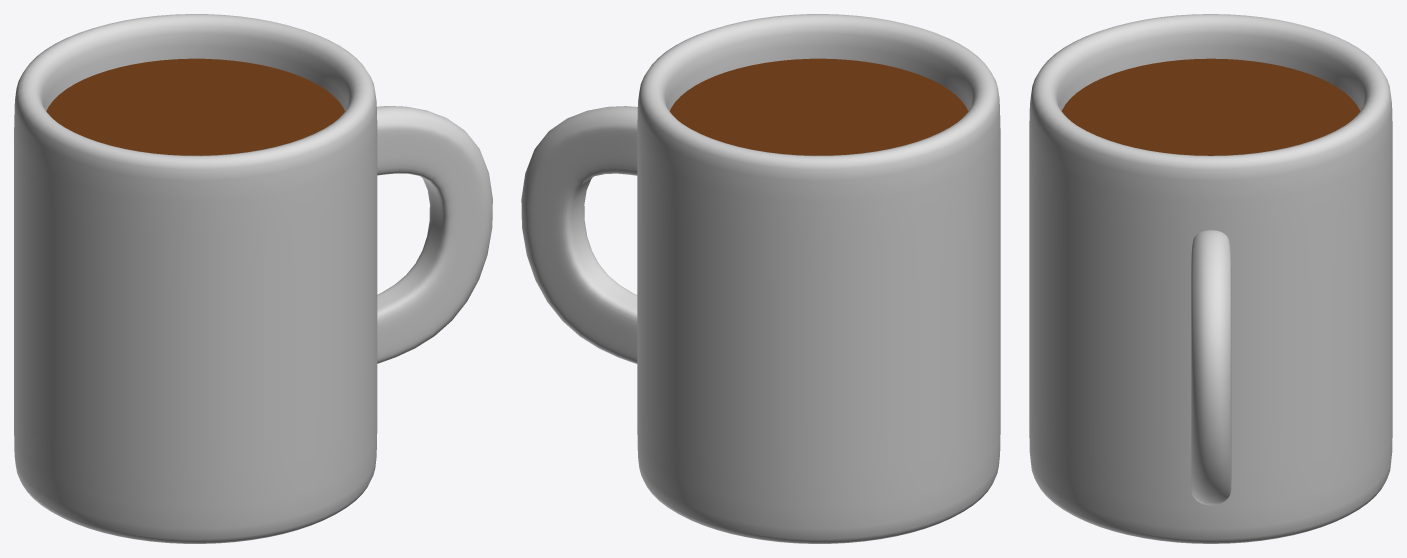
Rendered from Taza.fbx.
3 views of the same model, side by side, from view 1: azimuth 30°, elevation 25°; view 2: azimuth 150°, elevation 25°; view 3: azimuth 270°, elevation 25° (orthographic).
Visible parts, largest first — view 1: Taza, Circle.001; view 2: Taza, Circle.001; view 3: Taza, Circle.001.
Boxes of the visible parts, x1,y1,x2,y2 form: Taza: (14, 14, 492, 543); Circle.001: (46, 58, 344, 155); Taza: (521, 14, 1000, 543); Circle.001: (669, 58, 968, 155); Taza: (1029, 14, 1392, 543); Circle.001: (1061, 58, 1360, 155).
Bounding box in the file's own units: 7.69 × 6.26 × 5.35.
